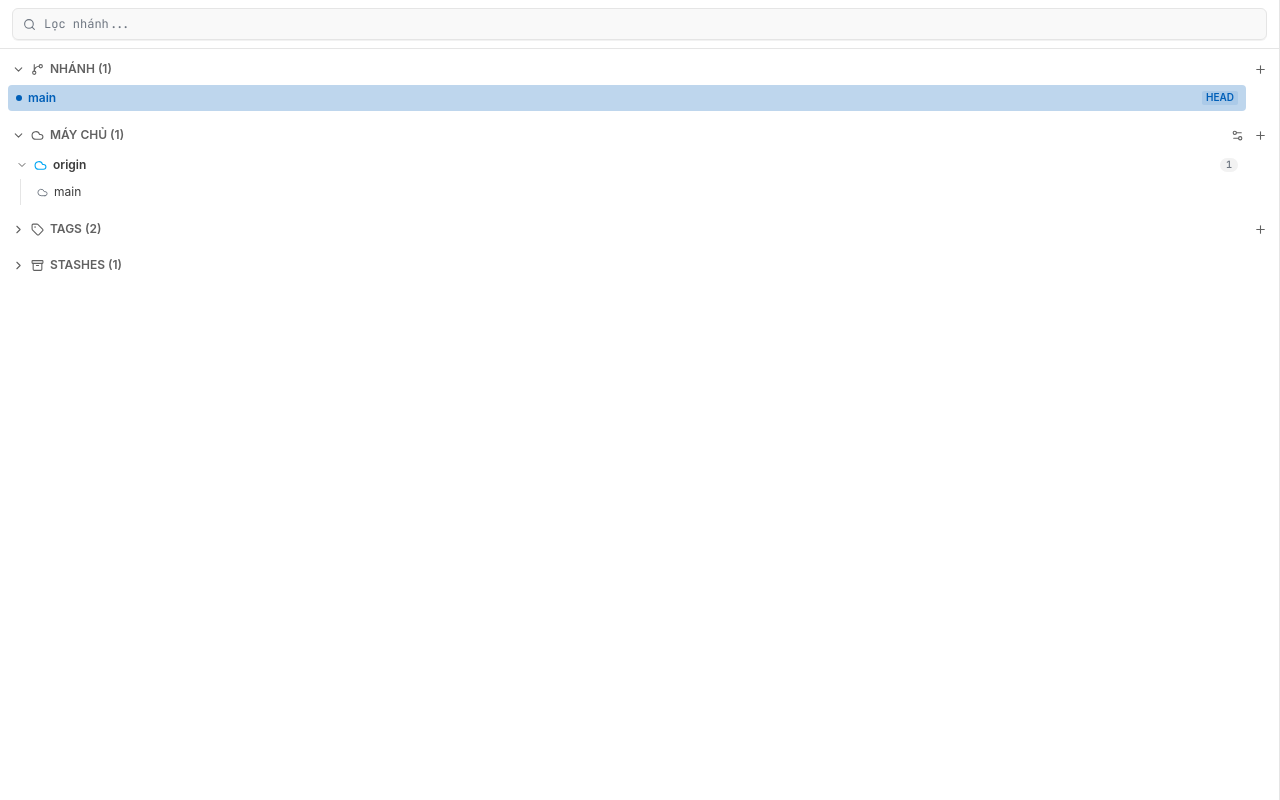
BranchSidebar › renders new branch button and opens CreateBranchModal
Click the button named "Tạo nhánh mới" at (1260, 69), box [1250,58,1271,80]
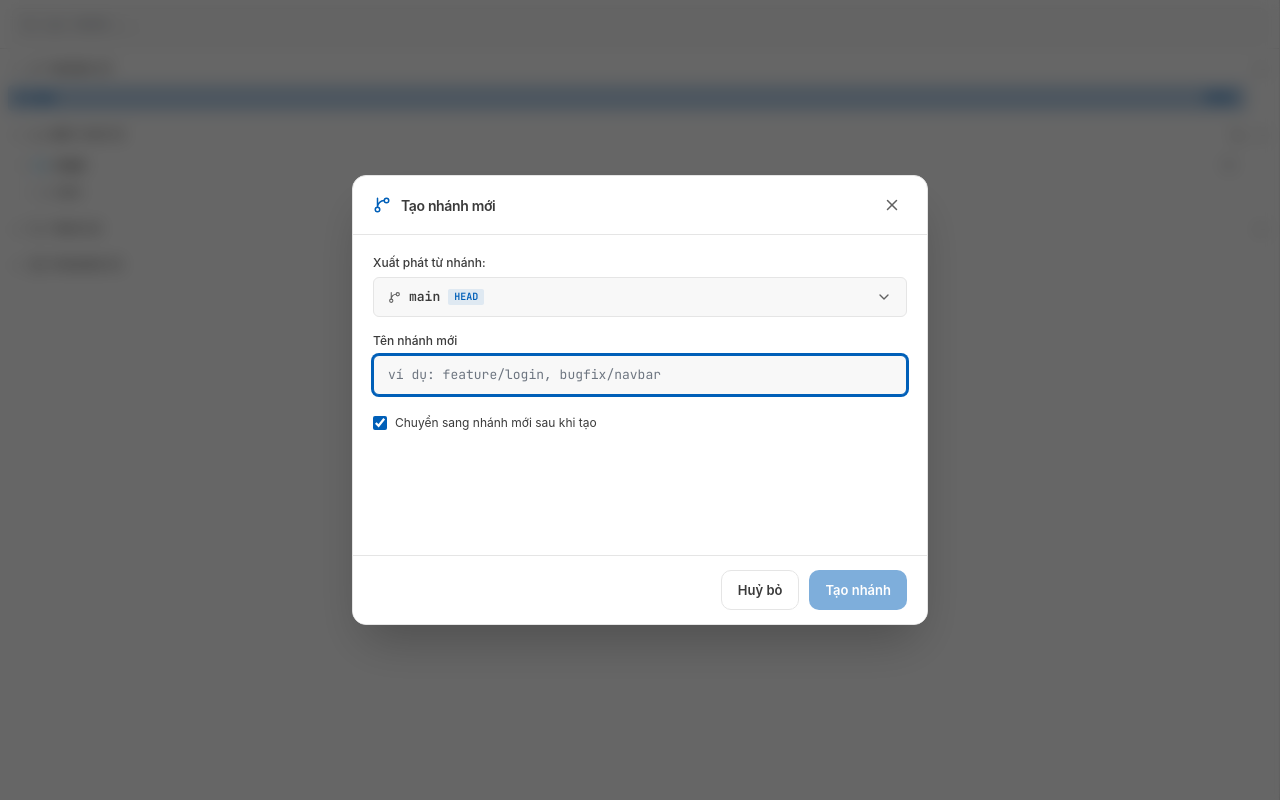
Check: the dialog is shown
Check: the heading "Tạo nhánh mới" is shown, box [401,194,495,216]
